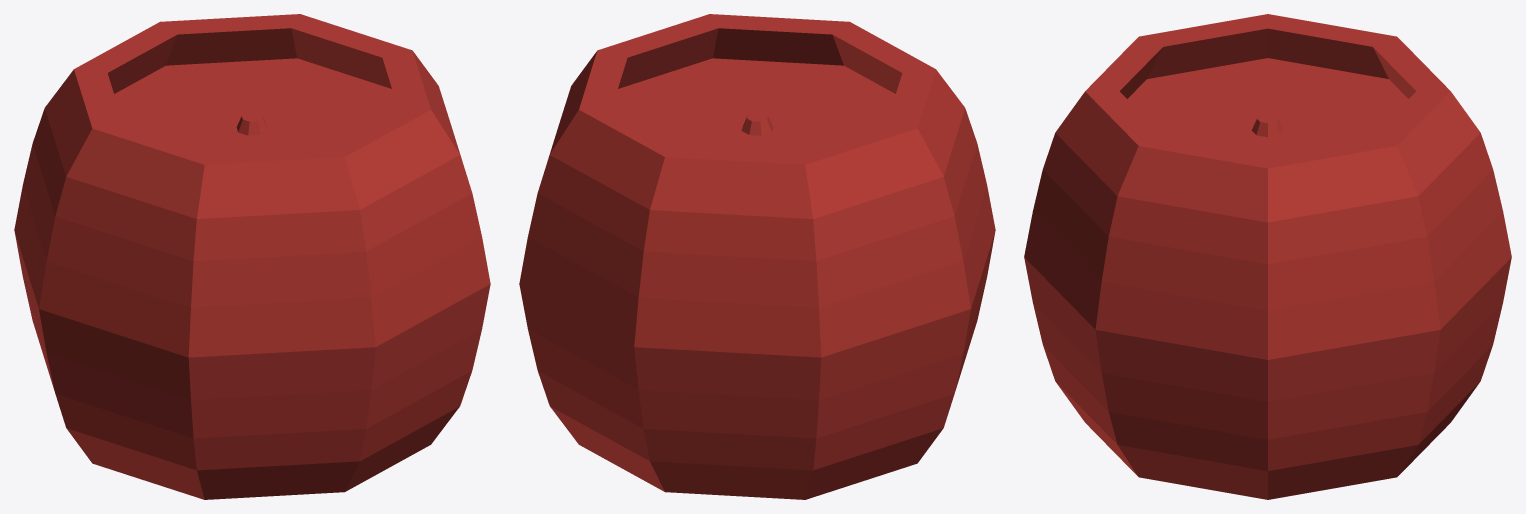
The model's file is candelarossa.fbx.
3 views of the same model, side by side, from view 1: azimuth 30°, elevation 25°; view 2: azimuth 150°, elevation 25°; view 3: azimuth 270°, elevation 25° (orthographic).
Parts seen in each view (by area): view 1: Cylinder.005; view 2: Cylinder.005; view 3: Cylinder.005.
Boxes of the visible parts, x1,y1,x2,y2 form: Cylinder.005: [14, 14, 490, 499]; Cylinder.005: [519, 14, 995, 499]; Cylinder.005: [1024, 14, 1511, 499].
Size of the model in its own units: 14.63 by 10.97 by 14.63.
